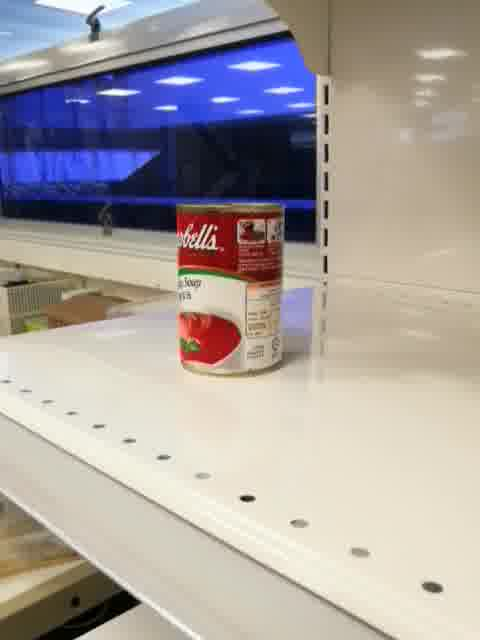tomatosoup: (174, 199, 285, 380)
